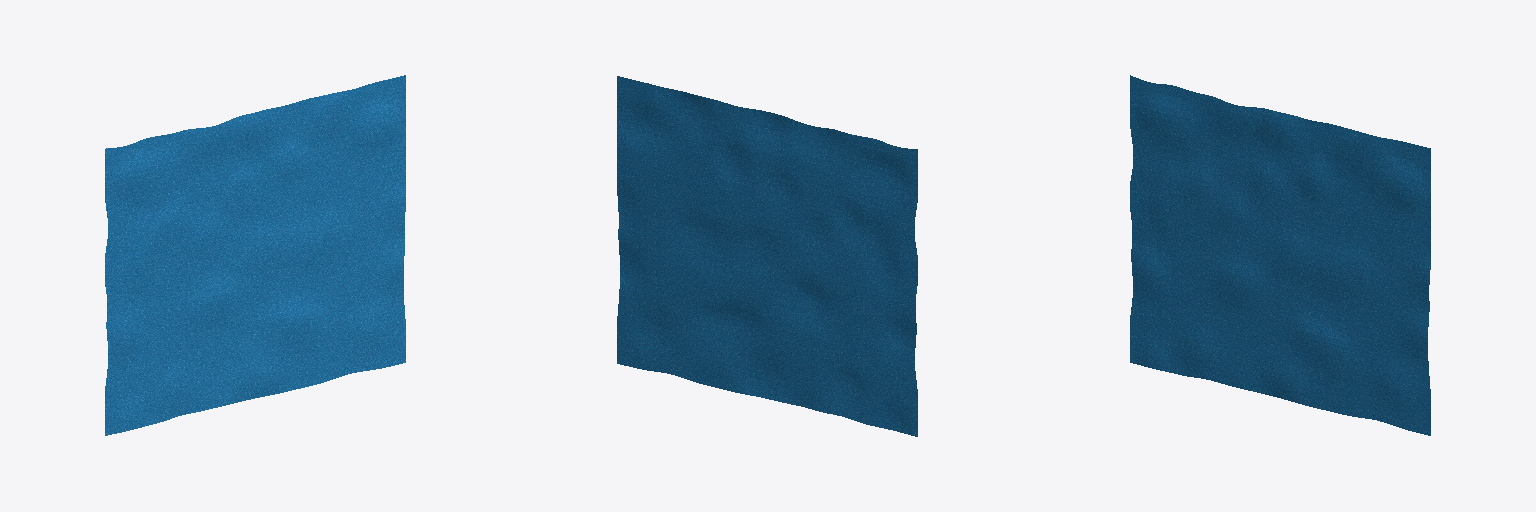
The picture shows the model from 3 angles: view 1: azimuth 30°, elevation 25°; view 2: azimuth 150°, elevation 25°; view 3: azimuth 330°, elevation 25°; orthographic projection.
Parts seen in each view (by area): view 1: pPlane1; view 2: pPlane1; view 3: pPlane1.
Boxes of the visible parts, x1=… form: pPlane1: x1=105, y1=75, x2=405, y2=435; pPlane1: x1=617, y1=76, x2=917, y2=436; pPlane1: x1=1130, y1=75, x2=1430, y2=435.
Bounding box in the file's own units: 105 × 95.62 × 0.713.
1 materials, 1 textured.